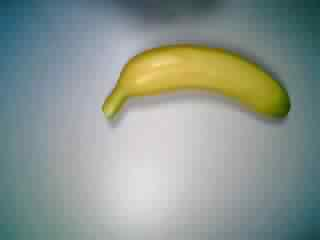banana: (98, 36, 296, 129)
